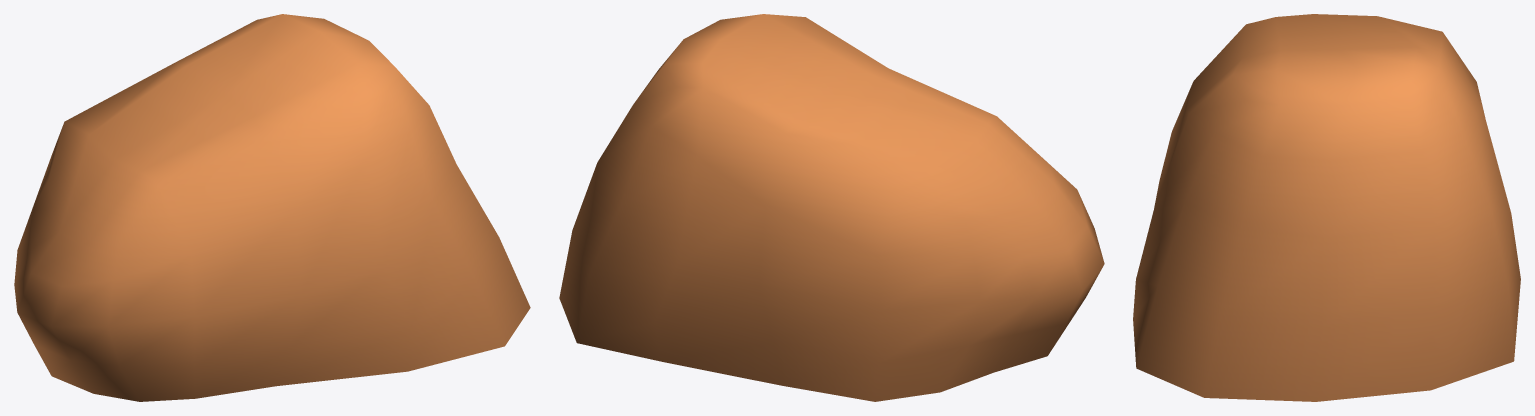
Rendered from Stone_01_C.fbx.
3 views of the same model, side by side, from view 1: azimuth 30°, elevation 25°; view 2: azimuth 150°, elevation 25°; view 3: azimuth 270°, elevation 25° (orthographic). The views are drawn at different scales.
Visible parts, largest first — view 1: Stone_01_C; view 2: Stone_01_C; view 3: Stone_01_C.
Boxes of the visible parts, x1,y1,x2,y2 form: Stone_01_C: (14,14,530,401); Stone_01_C: (559,14,1104,401); Stone_01_C: (1133,14,1520,401).
Bounding box in the file's own units: 3579 × 1846 × 2485.
